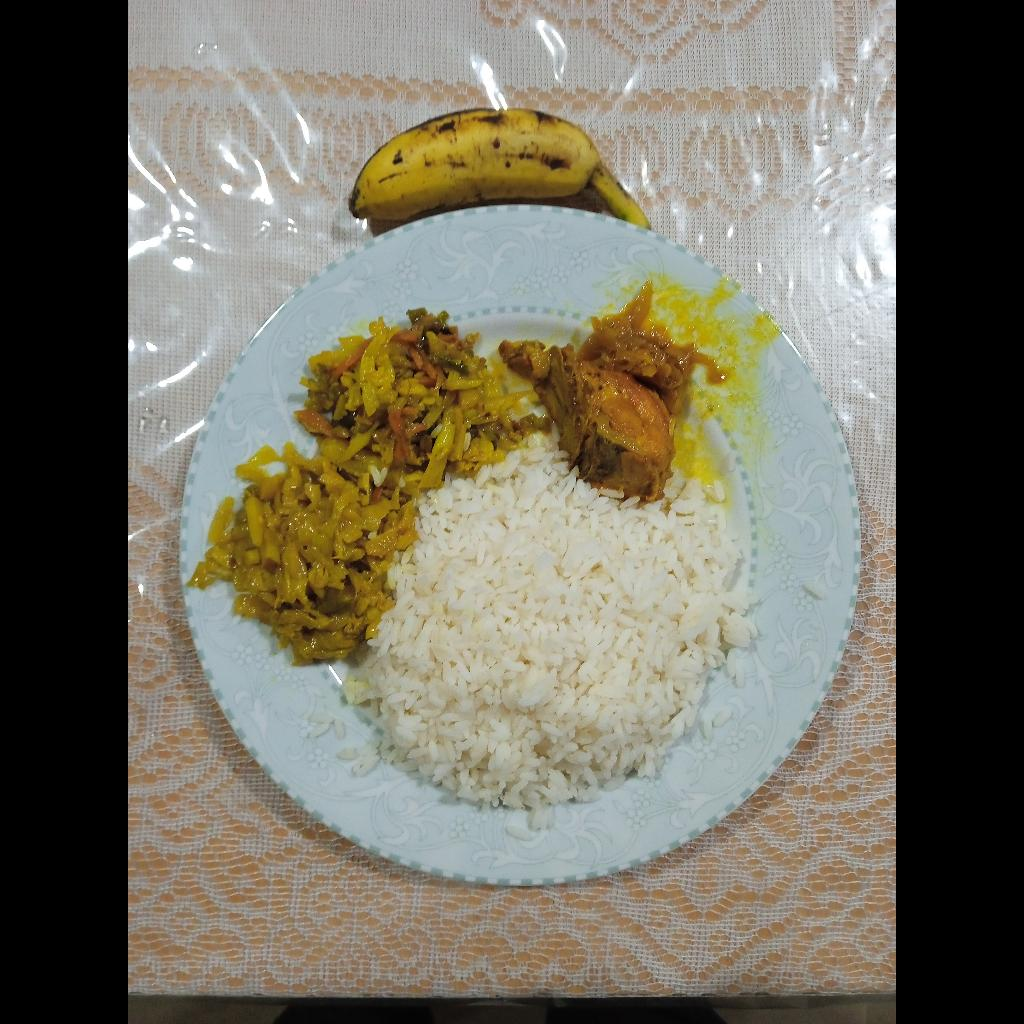banana: (349, 107, 653, 231)
cabbage: (183, 439, 419, 668)
chicken: (499, 339, 678, 503)
rice: (343, 442, 761, 832)
vegetable: (293, 308, 548, 488)
